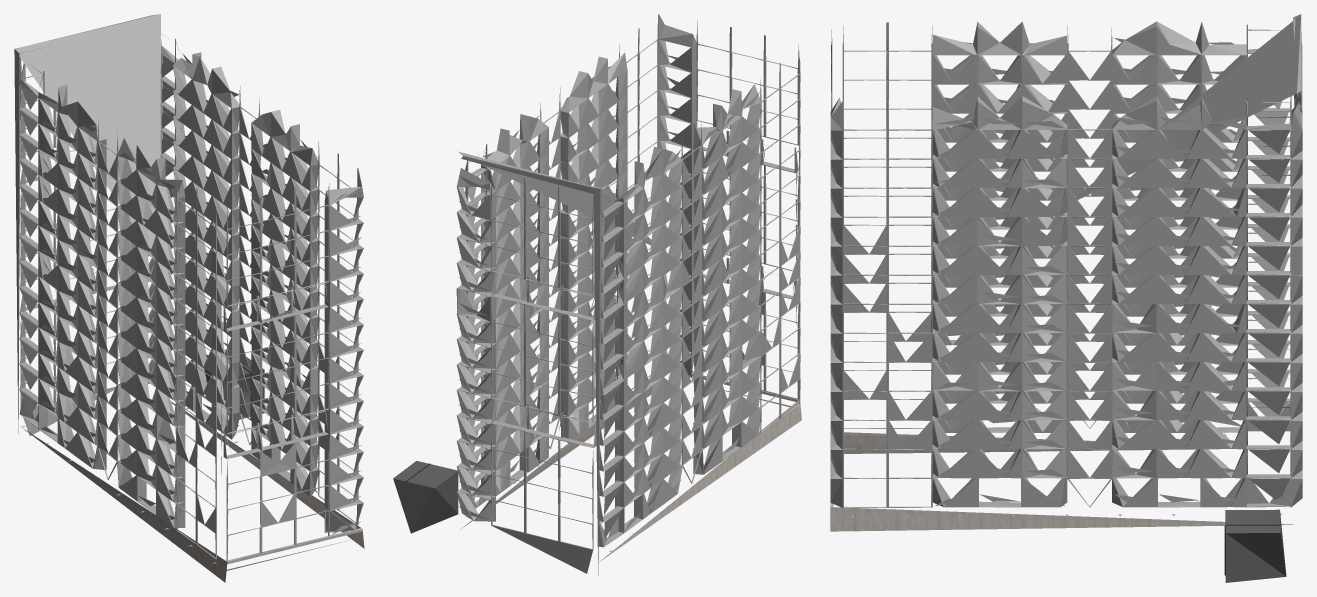
Rendered from user_city_bldg_2.glb.
3 renders of one model, left to right at view 1: azimuth 30°, elevation 25°; view 2: azimuth 150°, elevation 25°; view 3: azimuth 270°, elevation 25°, orthographic. The views are drawn at different scales.
Parts seen in each view (by area): view 1: user_city_bldg_2; view 2: user_city_bldg_2; view 3: user_city_bldg_2.
Part boxes in pixels (left/top/right/bottom): user_city_bldg_2: left=14, top=14, right=364, bottom=582; user_city_bldg_2: left=393, top=14, right=801, bottom=575; user_city_bldg_2: left=830, top=14, right=1302, bottom=582.
Size of the model in its own units: 20.07 by 34.5 by 32.48.
Materials: 5 (1 with a texture image).
